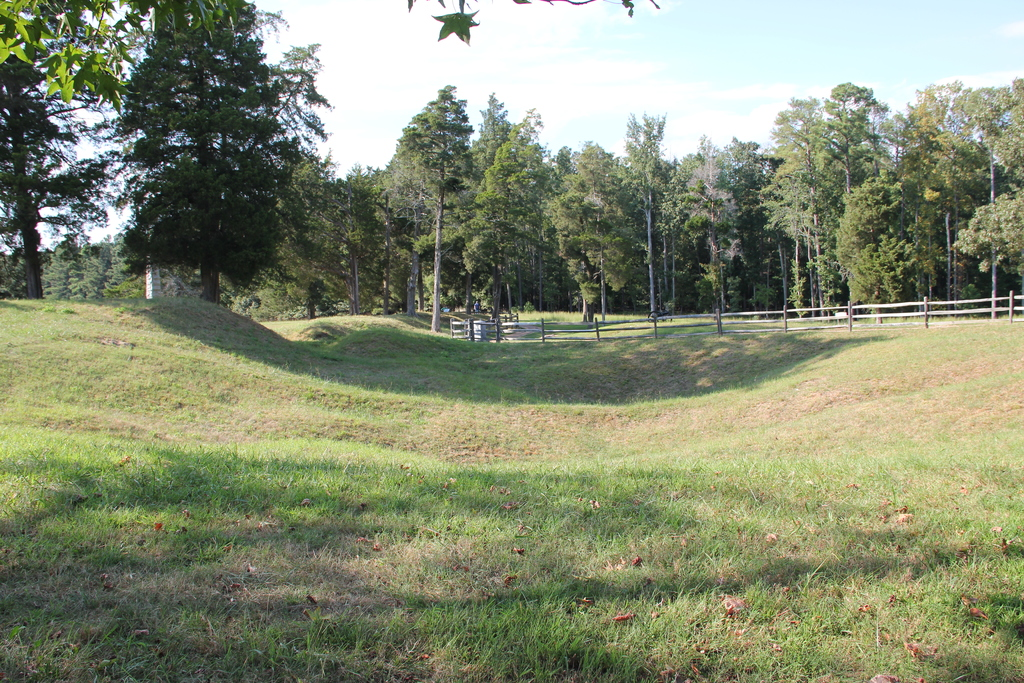Tree: (0, 81, 1023, 305), (65, 24, 339, 327), (0, 0, 659, 115), (381, 87, 476, 331)
